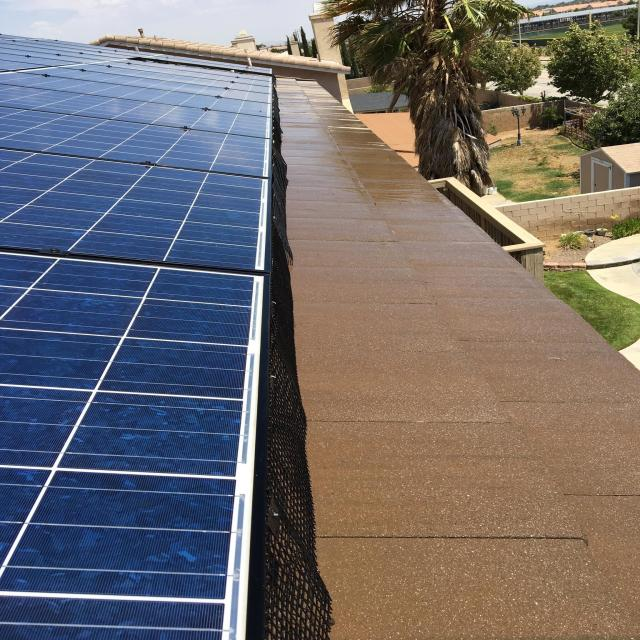clean-solar-panel: (2, 36, 273, 640)
